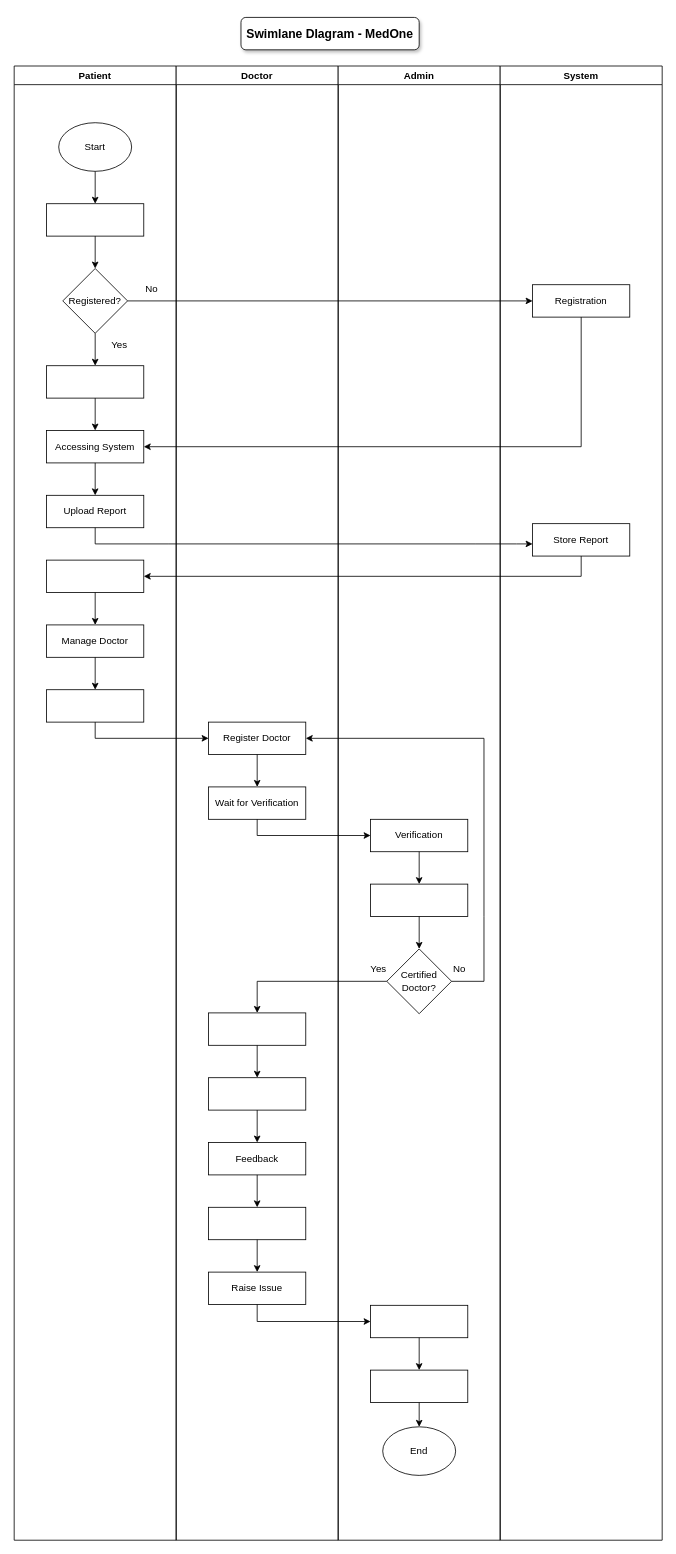
The diagram is 676 pixels wide and 1554 high, and some of its shapes have lost their labels. The centre of each missing label's shape, as x and y in pixels:
Check Doctor Certification: the point at 419,900
Contact Doctor: the point at 95,705
Control Issues: the point at 419,1321
Drug Directory Management: the point at 419,1386
Login: the point at 95,381
Manage Patients: the point at 257,1223
Manage Report: the point at 95,576
Search Patient: the point at 257,1028
View Patient Reports: the point at 257,1093
Web Access: the point at 95,219
